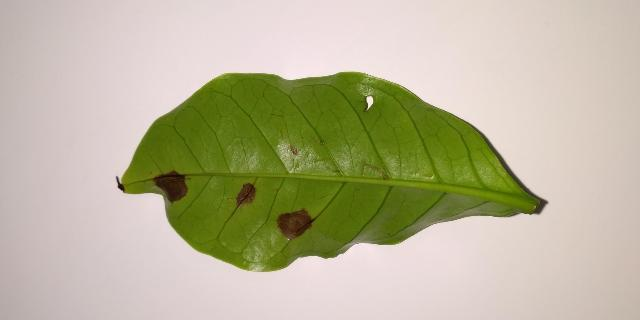rust: (278, 208, 314, 239), (153, 172, 187, 201), (237, 183, 256, 206)
